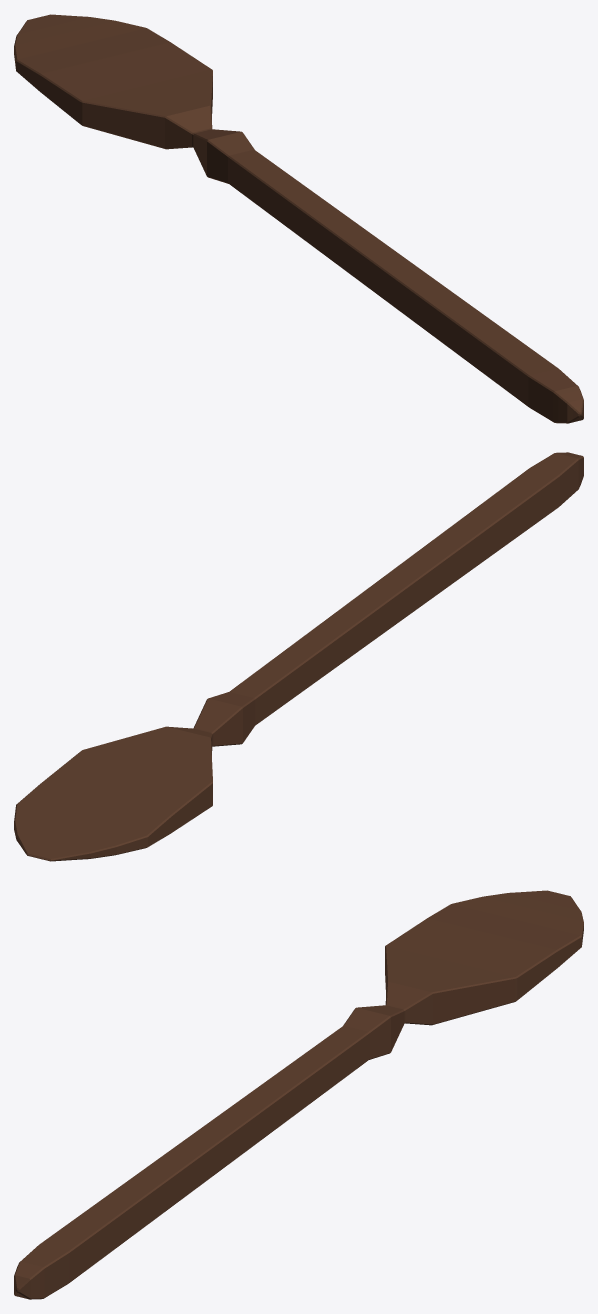
The model's file is Paddle.fbx.
3 renders of one model, top to bottom at view 1: azimuth 30°, elevation 25°; view 2: azimuth 150°, elevation 25°; view 3: azimuth 330°, elevation 25°, orthographic.
Visible parts, largest first — view 1: Cube; view 2: Cube; view 3: Cube.
Boxes of the visible parts, x1,y1,x2,y2 form: Cube: (14, 14, 583, 423); Cube: (14, 452, 583, 861); Cube: (14, 890, 583, 1299).
Size of the model in its own units: 92.99 by 25.34 by 662.
